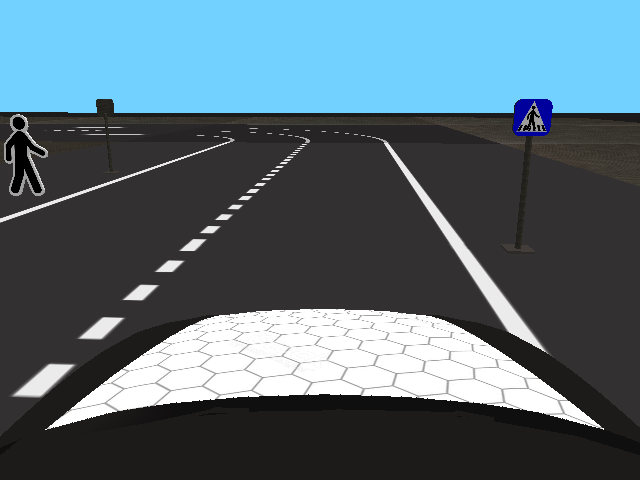pedestrian: (3, 114, 49, 197)
pedestrian_cross: (511, 99, 554, 136)
